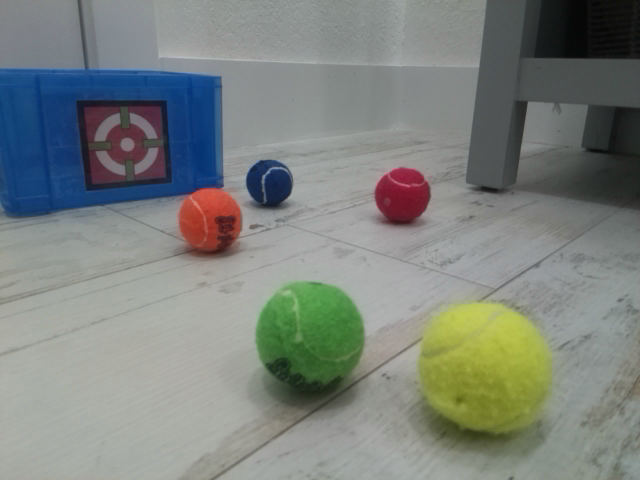blue-ball: (246, 159, 294, 208)
drop-bin: (76, 98, 172, 190)
green-ball: (253, 278, 365, 394)
orange-ball: (177, 186, 243, 254)
red-ball: (374, 166, 430, 223)
yellow-ball: (417, 300, 552, 439)
